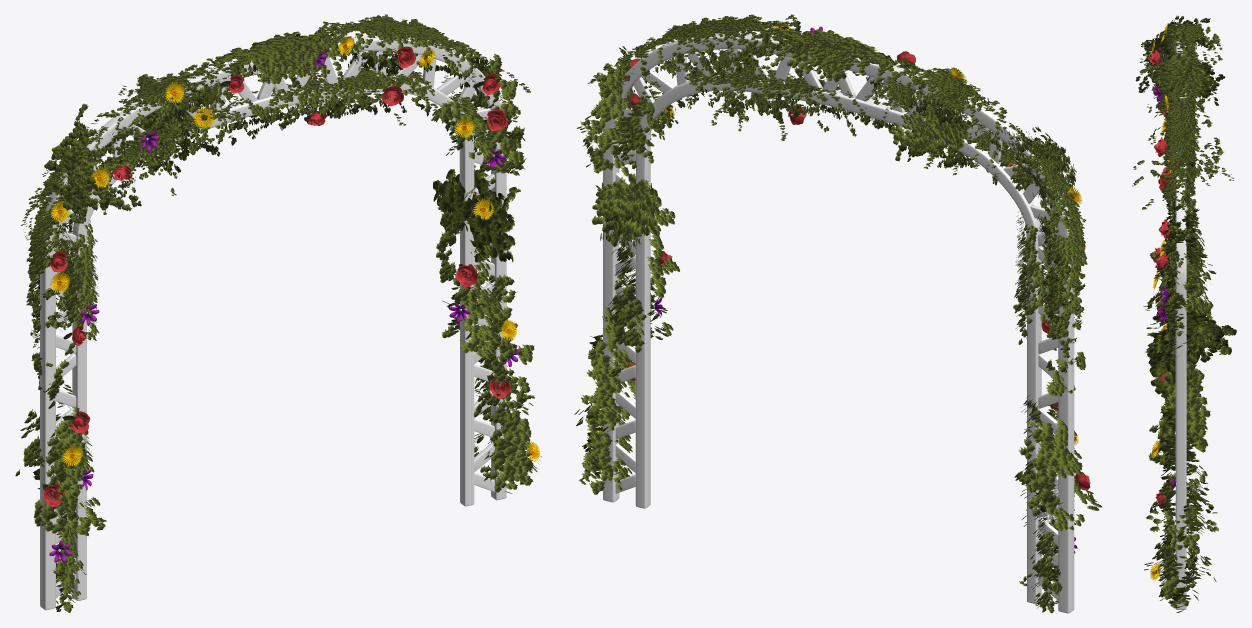
The model's file is flower_arch.glb.
3 views of the same model, side by side, from view 1: azimuth 30°, elevation 25°; view 2: azimuth 150°, elevation 25°; view 3: azimuth 270°, elevation 25° (orthographic). The views are drawn at different scales.
Visible parts, largest first — view 1: Object_2, Object_9, Object_7, Object_10, Object_20, Object_12, Object_15, Object_6, Object_17, Object_16, Object_13, Object_11 (+10 smaller); view 2: Object_2, Object_7, Object_9, Object_10, Object_12, Object_20, Object_13, Object_6, Object_17, Object_8, Object_11, Object_19 (+5 smaller); view 3: Object_7, Object_9, Object_12, Object_2, Object_8, Object_6, Object_17, Object_10, Object_15, Object_19, Object_20, Object_29 (+5 smaller).
Boxes of the visible parts, box(x1,y1,x2,y2) form: Object_2: box(40, 35, 506, 610); Object_9: box(433, 165, 517, 359); Object_7: box(138, 110, 541, 493); Object_10: box(15, 352, 106, 612); Object_20: box(219, 66, 455, 134); Object_12: box(294, 14, 530, 120); Object_15: box(44, 103, 172, 223); Object_6: box(168, 27, 349, 93); Object_17: box(66, 56, 256, 157); Object_16: box(42, 101, 259, 237); Object_13: box(26, 185, 73, 375); Object_11: box(56, 220, 99, 355); Object_2: box(603, 33, 1074, 613); Object_7: box(574, 110, 969, 494); Object_9: box(591, 173, 679, 376); Object_10: box(1014, 358, 1101, 613); Object_12: box(587, 14, 801, 99); Object_20: box(641, 57, 894, 140); Object_13: box(1035, 187, 1087, 373); Object_6: box(758, 27, 949, 84); Object_17: box(853, 48, 1039, 168); Object_8: box(576, 46, 635, 176); Object_11: box(1013, 211, 1057, 350); Object_19: box(611, 89, 685, 168); Object_7: box(1144, 58, 1225, 612); Object_9: box(1145, 301, 1236, 483); Object_12: box(1133, 75, 1223, 267); Object_2: box(1175, 41, 1186, 609); Object_8: box(1146, 213, 1211, 336); Object_6: box(1151, 28, 1211, 117); Object_17: box(1140, 21, 1222, 71); Object_10: box(1143, 195, 1216, 412); Object_15: box(1135, 15, 1211, 92); Object_19: box(1149, 222, 1210, 297); Object_20: box(1132, 112, 1233, 223); Object_29: box(1151, 137, 1169, 270).
Bounding box in the file's own units: 7.37 × 7.23 × 1.52.
Materials: 8 (5 with a texture image).
